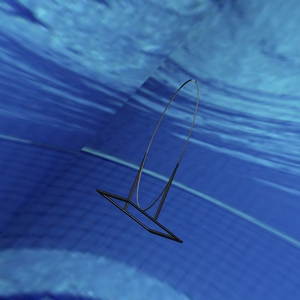circle: (96, 76, 201, 242)
